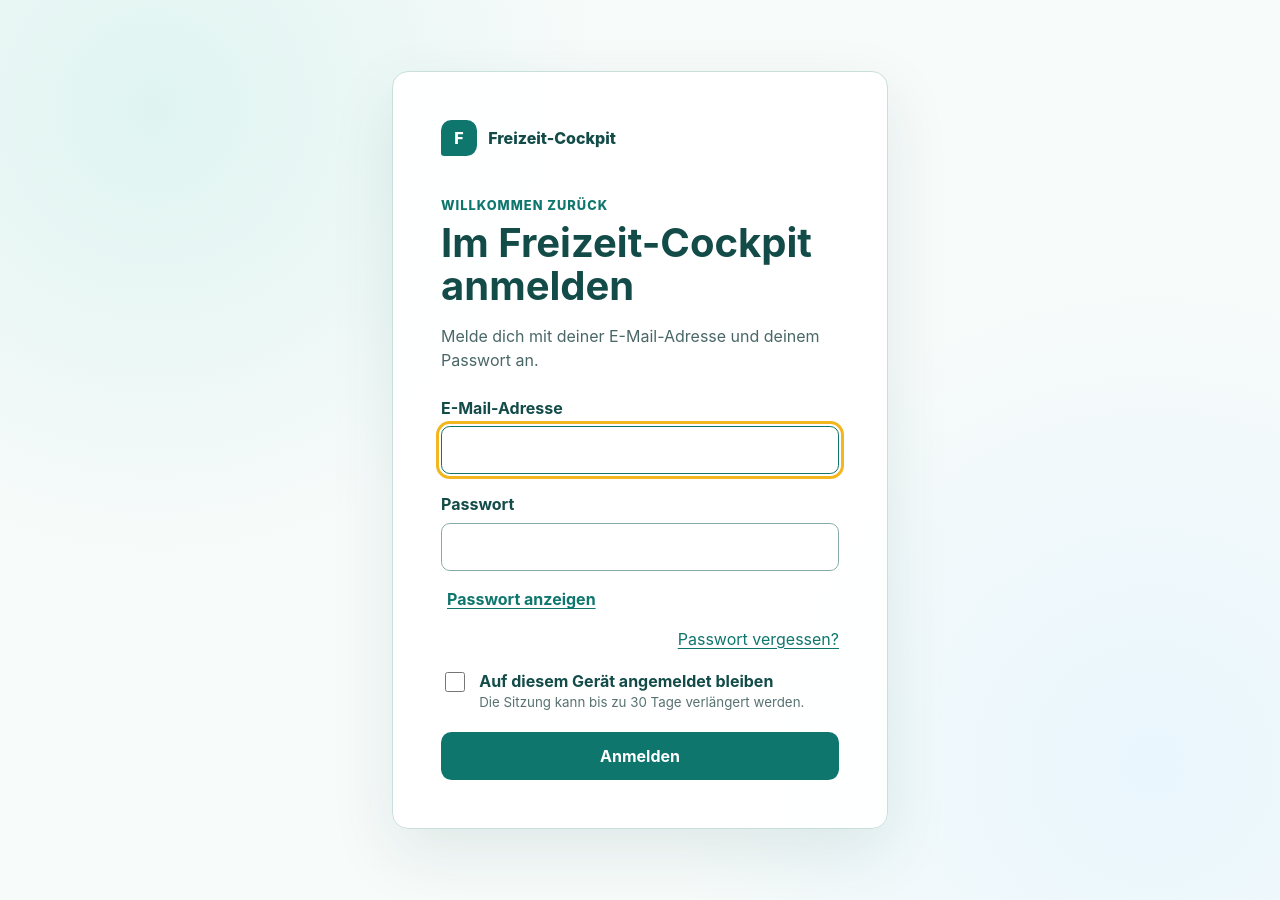
Test: identity self-service pages › keeps login values and explains invalid credentials
The width and height of the screenshot is (1280, 900).
In the field labelled "E-Mail-Adresse": (640, 450) [441,426,839,474], type "lea@example.test"
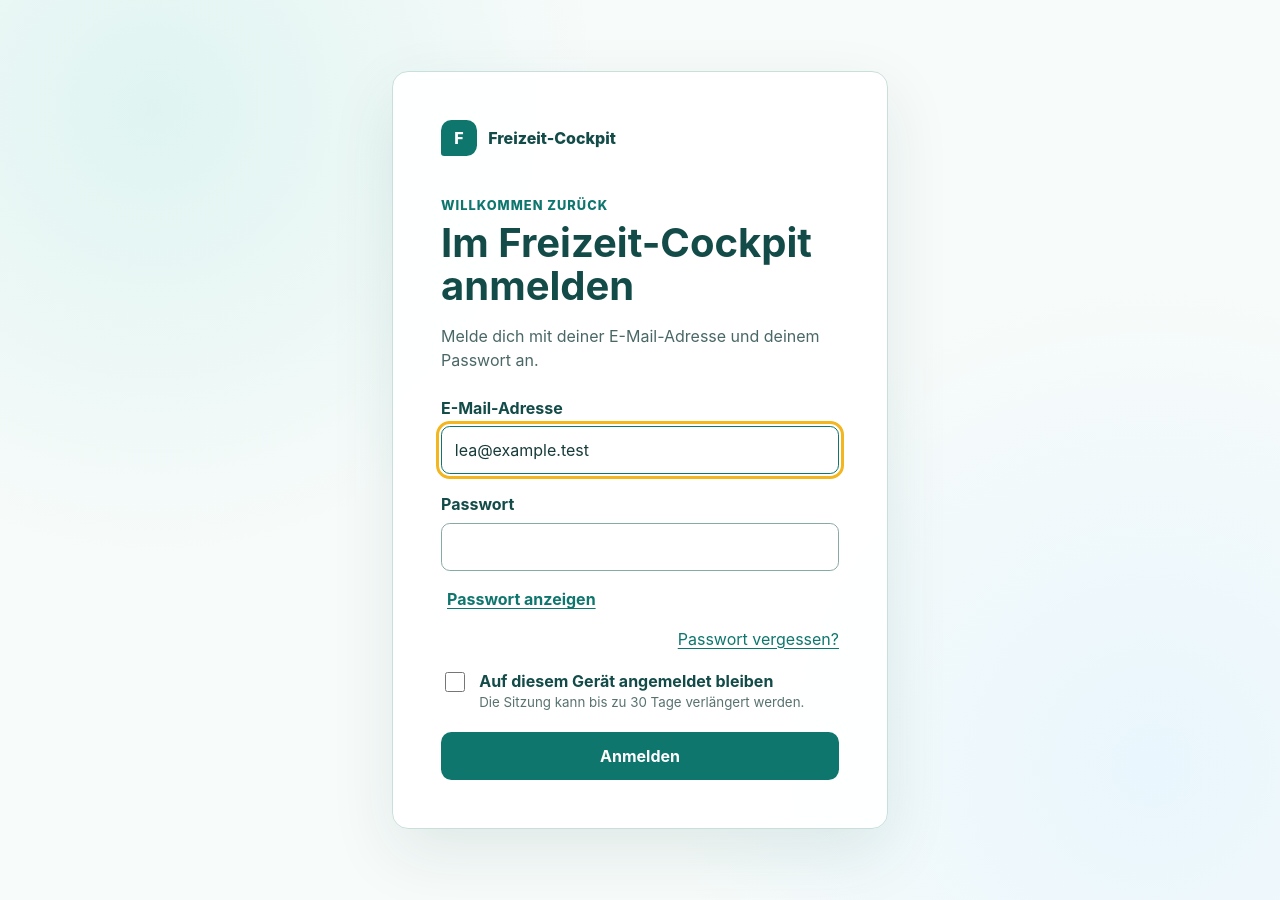
In the password field labelled "Passwort": (640, 547) [441,523,839,571], type "Falsches Passwort"
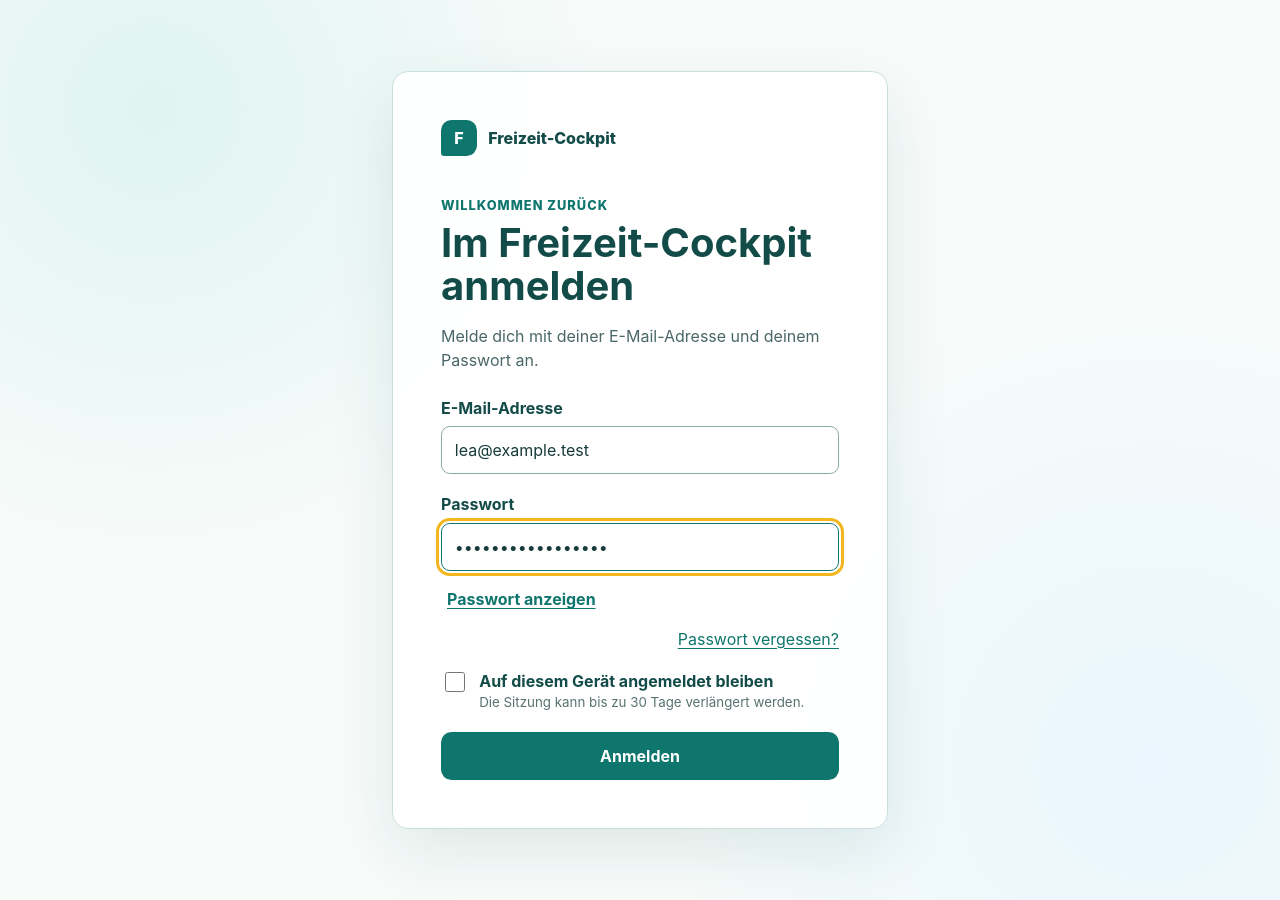
Click the button "Anmelden": (640, 756) [441,732,839,780]
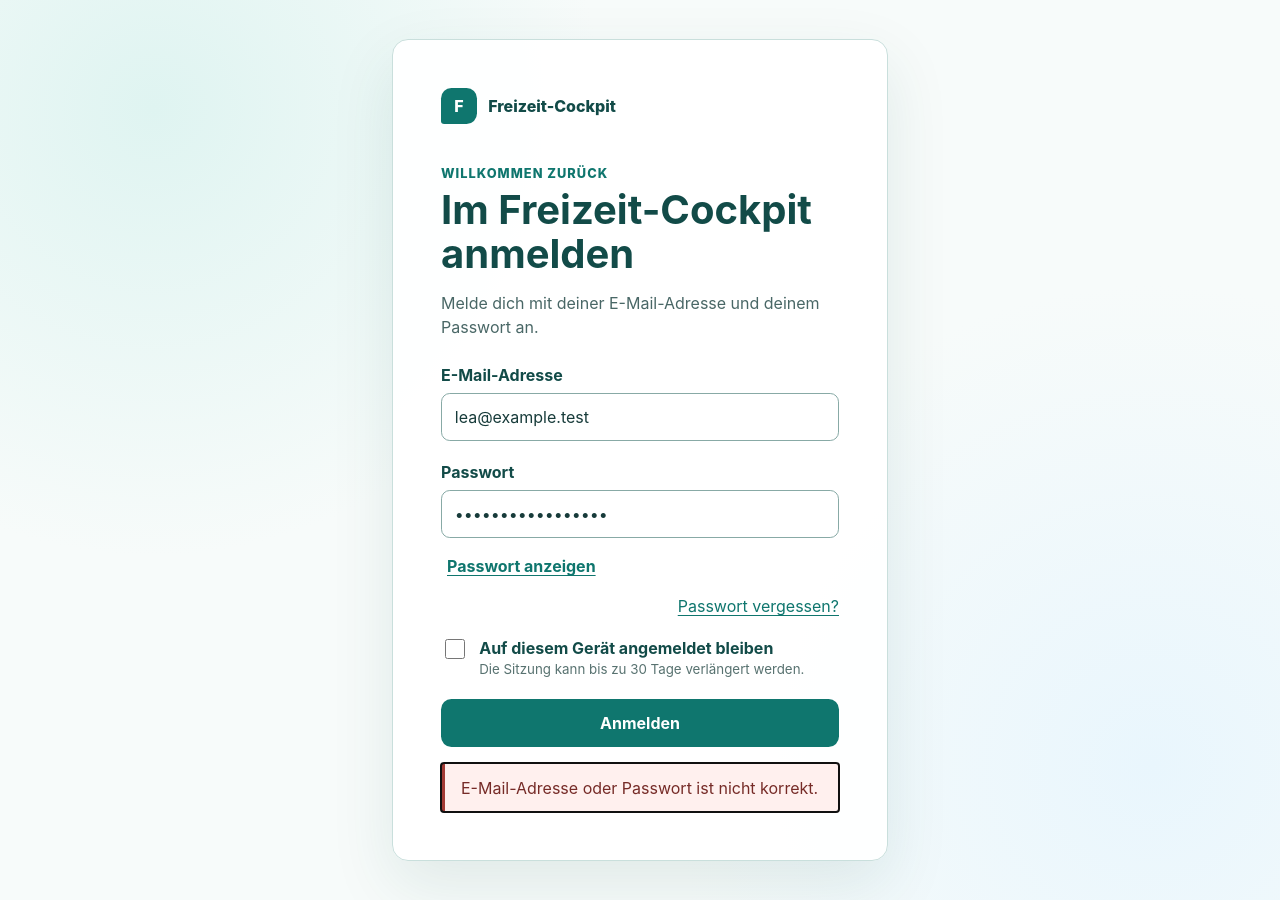
Expected: the message reads "E-Mail-Adresse oder Passwort ist nicht korrekt.", [461,778,818,798]
